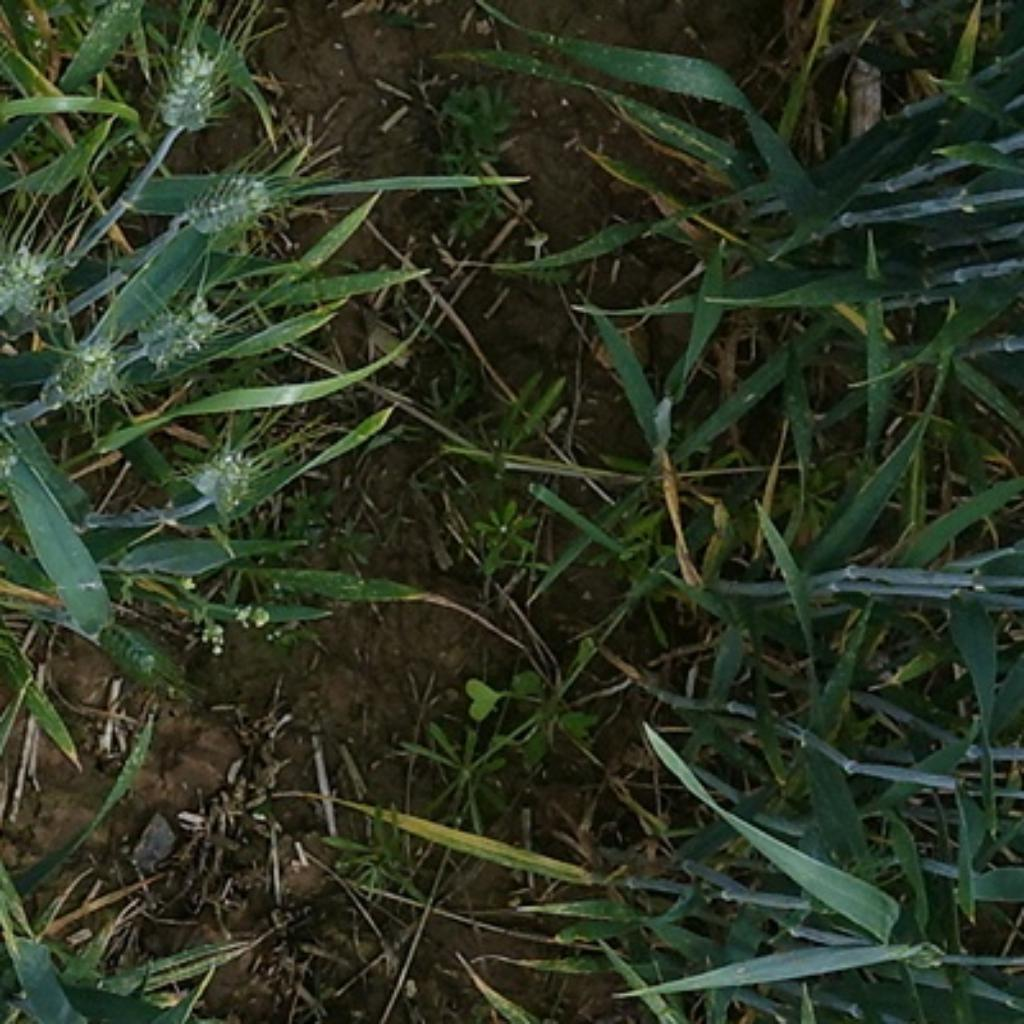0-0: (174, 166, 289, 243), (176, 435, 276, 519), (128, 289, 230, 371), (147, 46, 227, 134), (0, 230, 69, 327), (46, 327, 128, 407), (98, 619, 163, 681)
